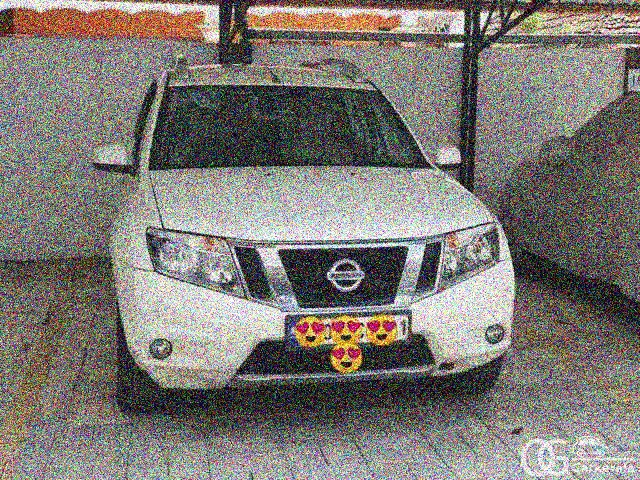car: (81, 40, 533, 440)
